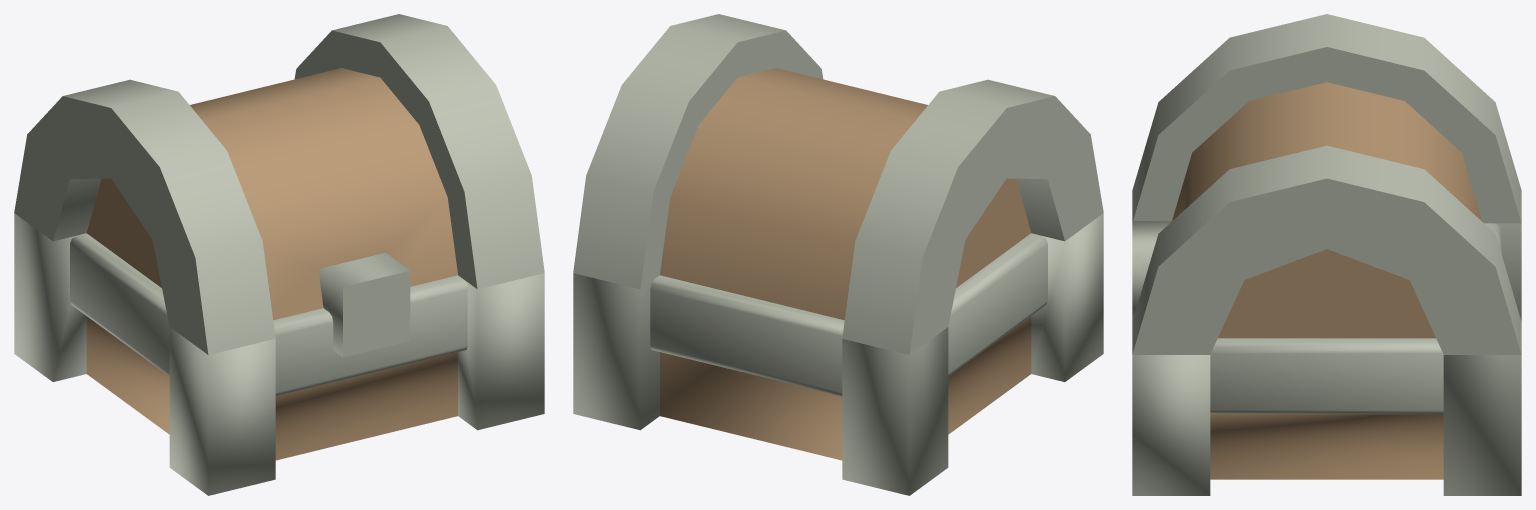
The model's file is kenney_mini-dungeon__chest.fbx.
3 renders of one model, left to right at view 1: azimuth 30°, elevation 25°; view 2: azimuth 150°, elevation 25°; view 3: azimuth 270°, elevation 25°, orthographic.
Parts seen in each view (by area): view 1: kenney_mini-dungeon__chest__meadow_stone, kenney_mini-dungeon__chest__meadow_wood; view 2: kenney_mini-dungeon__chest__meadow_stone, kenney_mini-dungeon__chest__meadow_wood; view 3: kenney_mini-dungeon__chest__meadow_stone, kenney_mini-dungeon__chest__meadow_wood.
Part boxes in pixels (left/top/right/bottom): kenney_mini-dungeon__chest__meadow_stone: left=14, top=14, right=544, bottom=495; kenney_mini-dungeon__chest__meadow_wood: left=86, top=68, right=457, bottom=460; kenney_mini-dungeon__chest__meadow_stone: left=573, top=14, right=1103, bottom=495; kenney_mini-dungeon__chest__meadow_wood: left=660, top=68, right=1031, bottom=460; kenney_mini-dungeon__chest__meadow_stone: left=1132, top=14, right=1521, bottom=495; kenney_mini-dungeon__chest__meadow_wood: left=1172, top=82, right=1481, bottom=479.
Bounding box in the file's own units: 1.79 × 1.61 × 1.79.
